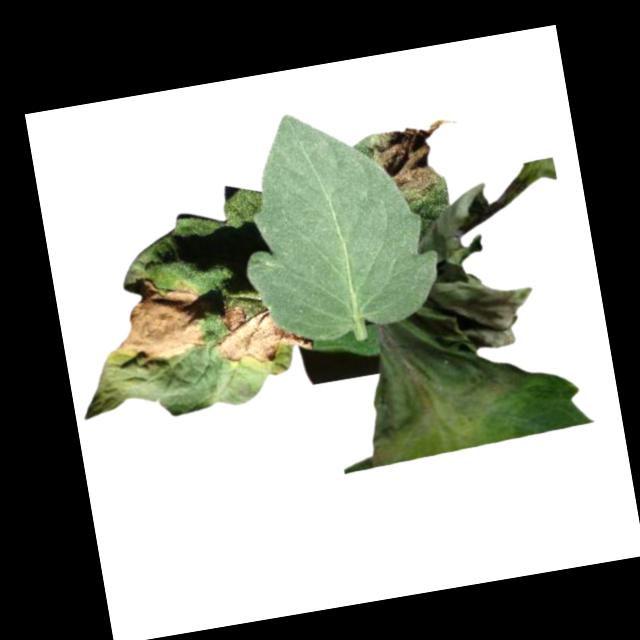Late_blight: (403, 157, 591, 362), (350, 300, 537, 467), (103, 267, 213, 372), (368, 113, 466, 203), (210, 290, 315, 371)
healthy: (221, 93, 449, 351)
